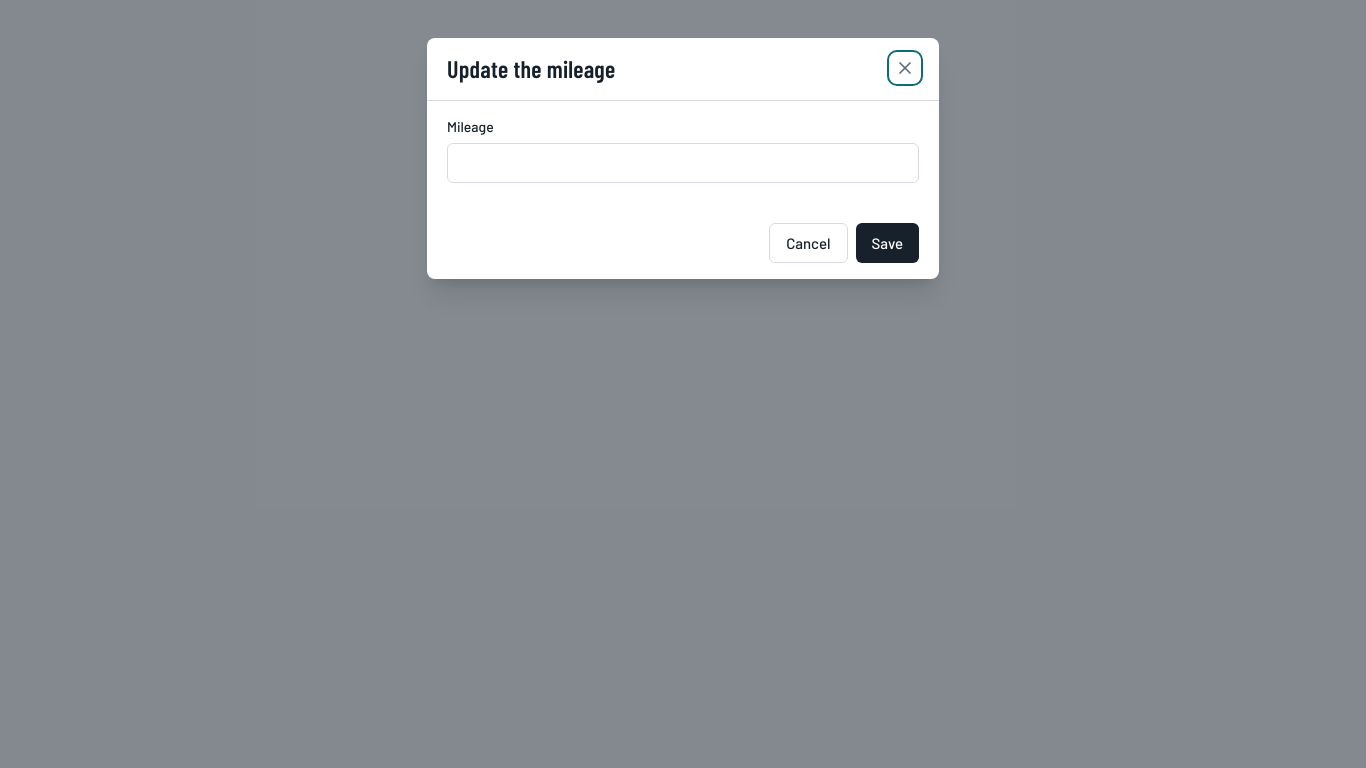
Test: useFormSubmit › validates before sending
Step 1. Click the button "Save" → (887, 243), box top-left (856, 223), bottom-right (919, 263)
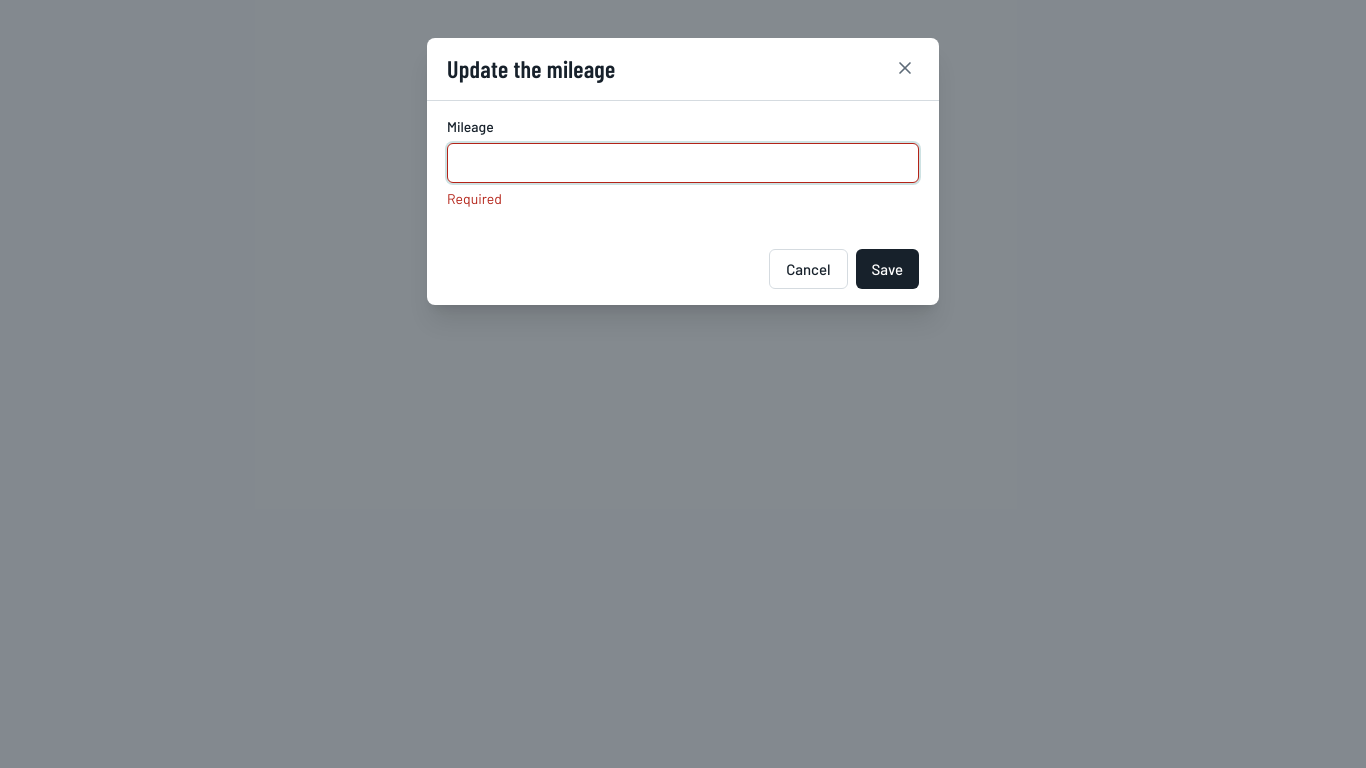
expect the text "Required" is shown: met, box top-left (447, 190), bottom-right (502, 207)
